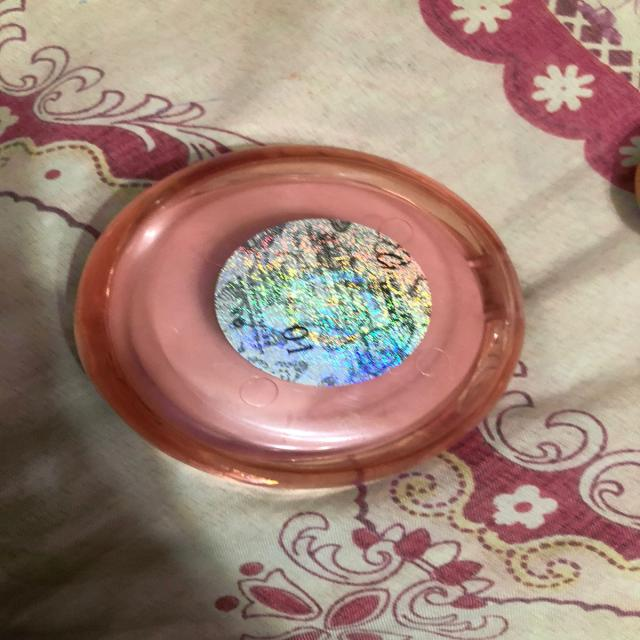powder: (49, 124, 558, 495)
